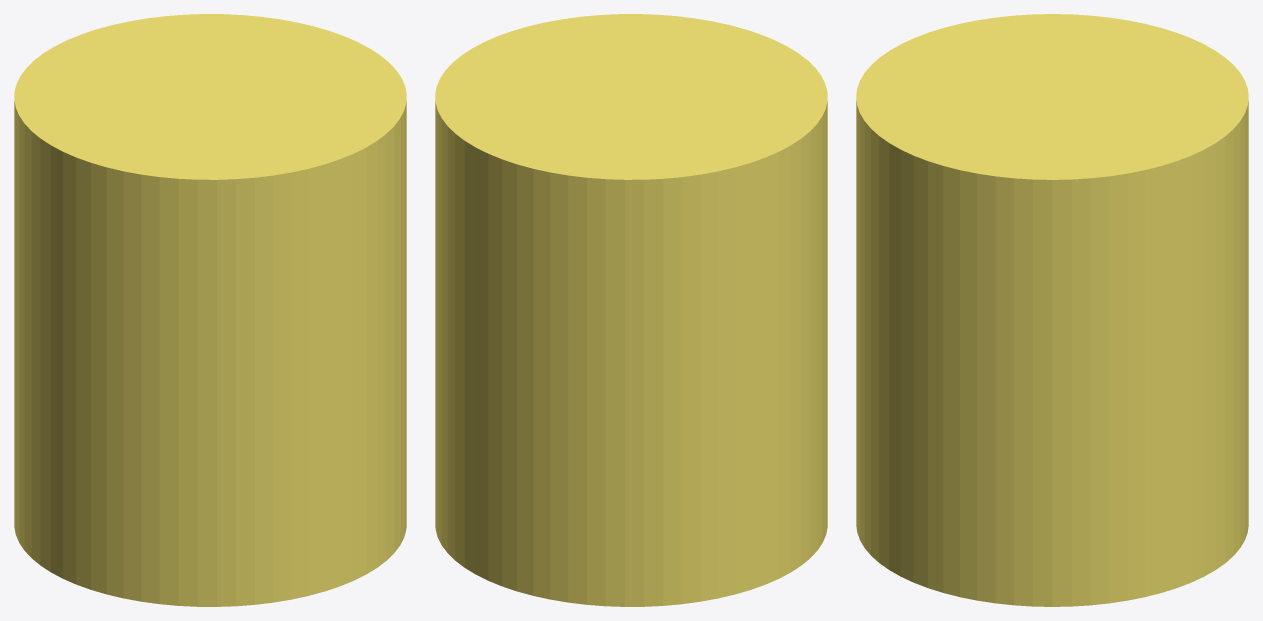
The picture shows the model from 3 angles, left to right: view 1: azimuth 30°, elevation 25°; view 2: azimuth 150°, elevation 25°; view 3: azimuth 270°, elevation 25°; orthographic projection.
Size of the model in its own units: 20 by 24 by 20.
